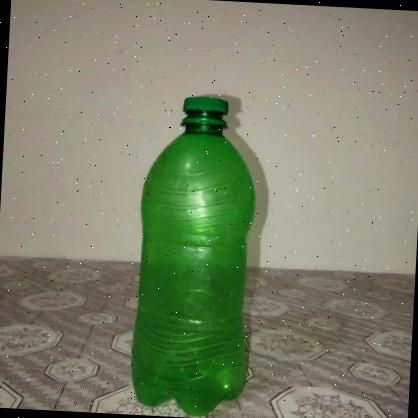bottle: (126, 93, 263, 418)
cap: (178, 96, 233, 127)
